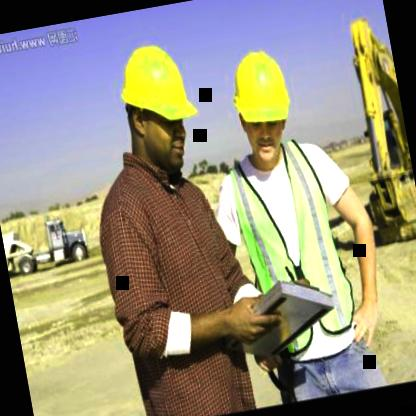helmet: (100, 22, 210, 190), (218, 31, 306, 176)
